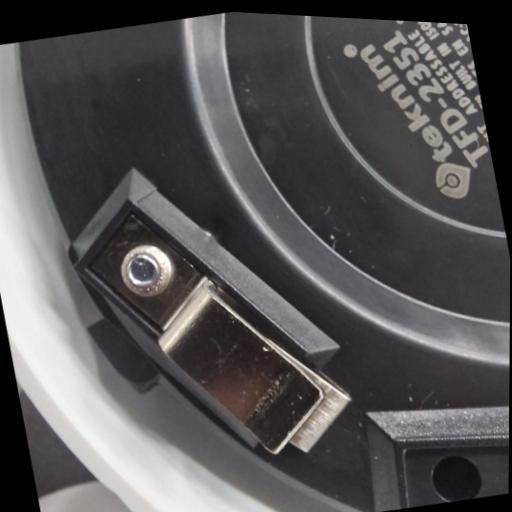yayli: (53, 135, 362, 493)
